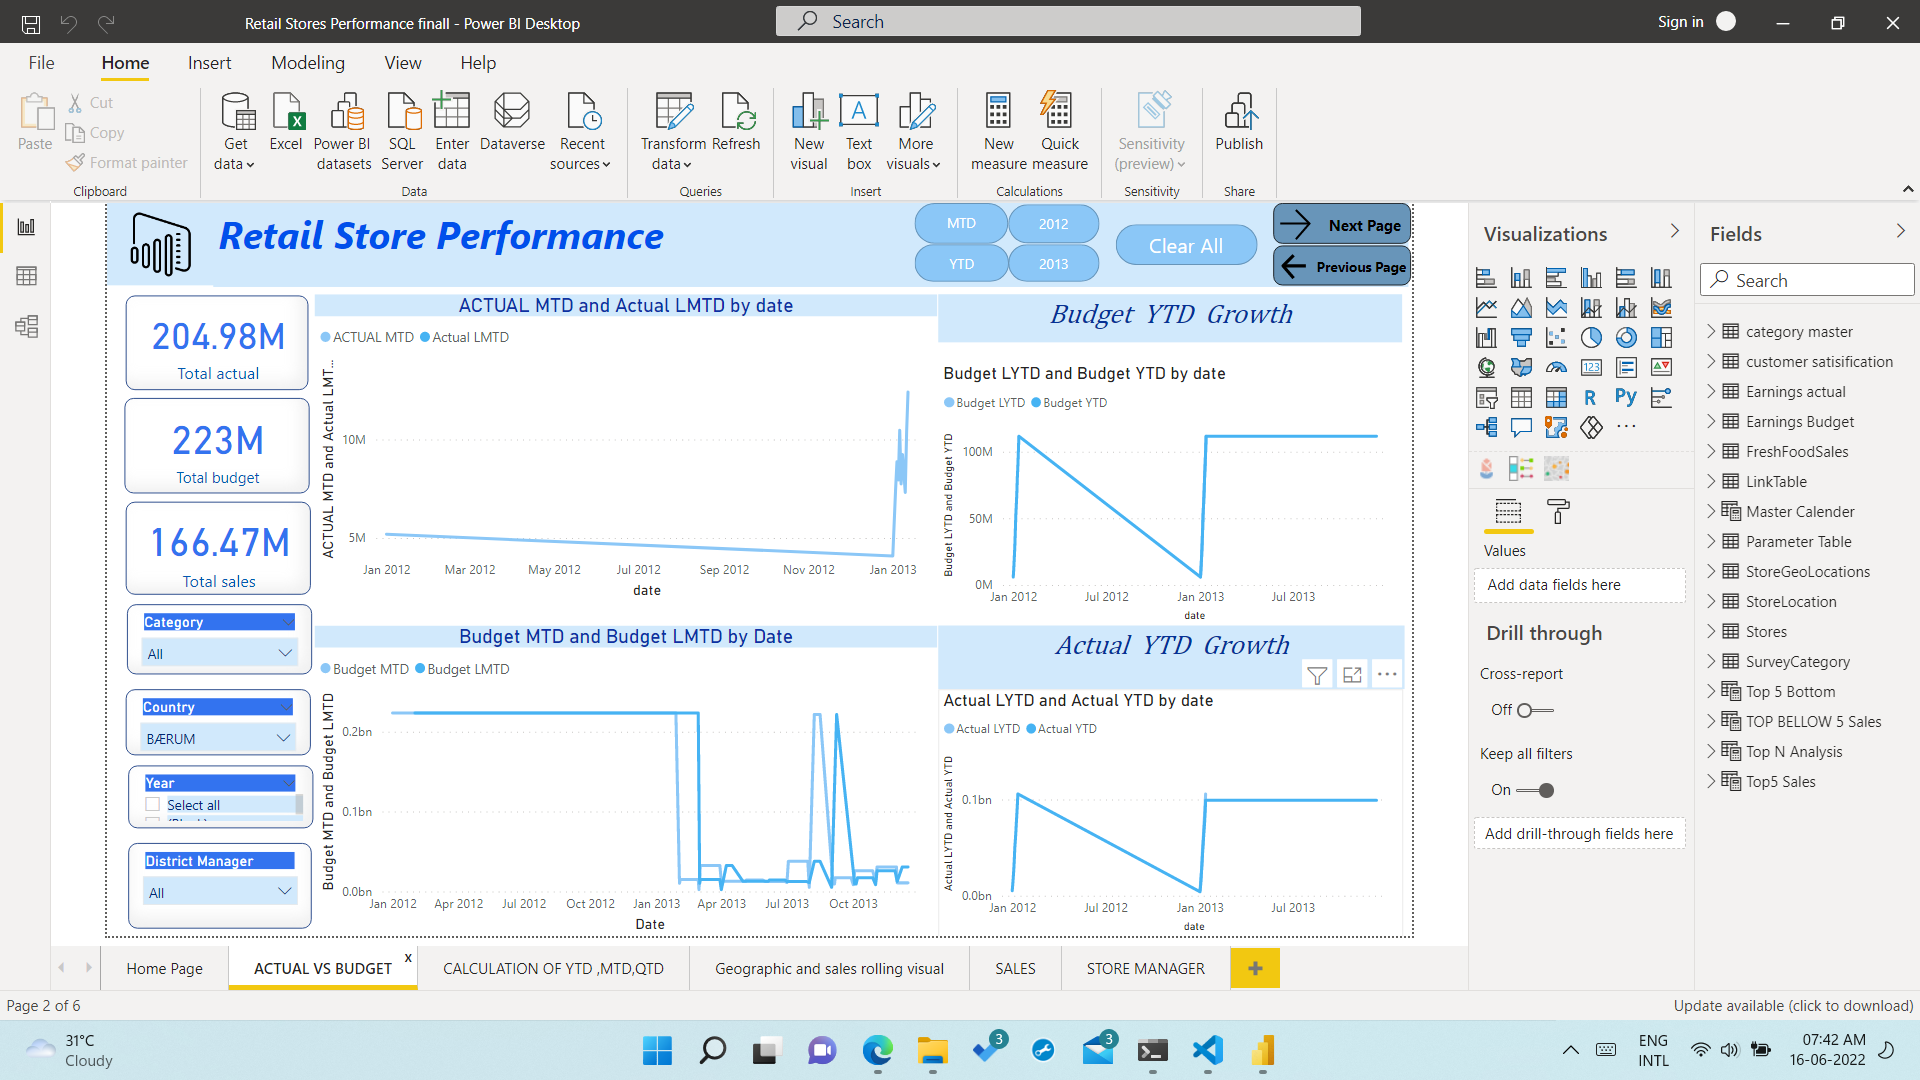

What the dashboard file says about the page in this screenshot:
{"tool":"powerbi","page":{"name":"ACTUAL VS BUDGET","canvas":[1280,720],"ordinal":1},"visuals":[{"type":"image","box":[0,0,105.7,80.8],"z":0},{"type":"textbox","box":[104.4,0,1173.1,82],"z":1000},{"type":"card","fields":{"Values":["Earnings actual.Total actual"]},"box":[17.8,90.3,179.4,92.7],"z":2000},{"type":"card","fields":{"Values":["Earnings Budget.Total budget"]},"box":[16.6,191.3,181.8,93.9],"z":3000},{"type":"card","fields":{"Values":["FreshFoodSales.total sales"]},"box":[19,293.5,181.8,91.5],"z":4000},{"type":"slicer","fields":{"Values":["category master.Category"]},"box":[20.2,393.3,181.8,68.9],"z":5000},{"type":"slicer","fields":{"Values":["StoreGeoLocations.Country"]},"box":[18,477.6,181.2,64.8],"z":6000},{"type":"slicer","fields":{"Values":["Stores.District Manager Name"]},"box":[20.4,627.6,180,84],"z":7000},{"type":"lineChart","fields":{"Y":["Earnings Budget.Budget LYTD","Earnings Budget.Budget YTD"],"Category":["Earnings Budget.date"]},"box":[815.2,156.6,457.3,258.5],"z":8000},{"type":"textbox","box":[815.2,415.1,457.3,62.1],"z":9000},{"type":"lineChart","fields":{"Y":["Earnings actual.Actual LYTD","Earnings actual.Actual YTD"],"Category":["Earnings actual.date"]},"box":[815.2,477.2,457.3,243.6],"z":10000},{"type":"textbox","box":[815.2,89.5,454.8,47.2],"z":11000},{"type":"shape","box":[989.7,21.4,139,40.4],"z":12000},{"type":"actionButton","title":"Next  Page","box":[1144.2,0,135.4,40.4],"z":13000},{"type":"slicer","fields":{"Values":["Master Calender.Date.Variation.Date Hierarchy.Year"]},"box":[20.4,552,181.2,61.2],"z":14000},{"type":"shape","box":[884.4,1.6,89.4,38.3],"z":15000},{"type":"actionButton","box":[1144.2,41.6,135.4,39.2],"z":16000},{"type":"shape","box":[884.4,39.9,89.4,36.7],"z":17000},{"type":"lineChart","fields":{"Y":["Earnings actual.ACTUAL MTD","Earnings actual.Actual LMTD"],"Category":["Earnings actual.date"]},"box":[203.8,89.5,611.4,303.2],"z":18000},{"type":"lineChart","fields":{"Category":["LinkTable.Date"],"Y":["Earnings Budget.Budget MTD","Earnings Budget.Budget LMTD"]},"box":[203.8,415.1,611.4,305.7],"z":19000},{"type":"shape","box":[792.9,0,92,39.8],"z":20000},{"type":"shape","box":[791.8,39.9,92.6,36.7],"z":21000}]}

Visuals, with their boxes on the page's 1280x720 design canvas (x1, y1, x2, y2). These are canvas units, not pixel positions in the 1920x1080 screenshot, which may show the page scaled, cropped or inside an application window:
image: {"x1": 0, "y1": 0, "x2": 106, "y2": 81}
textbox: {"x1": 104, "y1": 0, "x2": 1278, "y2": 82}
card - Earnings actual.Total actual: {"x1": 18, "y1": 90, "x2": 197, "y2": 183}
card - Earnings Budget.Total budget: {"x1": 17, "y1": 191, "x2": 198, "y2": 285}
card - FreshFoodSales.total sales: {"x1": 19, "y1": 294, "x2": 201, "y2": 385}
slicer - category master.Category: {"x1": 20, "y1": 393, "x2": 202, "y2": 462}
slicer - StoreGeoLocations.Country: {"x1": 18, "y1": 478, "x2": 199, "y2": 542}
slicer - Stores.District Manager Name: {"x1": 20, "y1": 628, "x2": 200, "y2": 712}
lineChart - Earnings Budget.Budget LYTD x Earnings Budget.Budget YTD: {"x1": 815, "y1": 157, "x2": 1272, "y2": 415}
textbox: {"x1": 815, "y1": 415, "x2": 1272, "y2": 477}
lineChart - Earnings actual.Actual LYTD x Earnings actual.Actual YTD: {"x1": 815, "y1": 477, "x2": 1272, "y2": 721}
textbox: {"x1": 815, "y1": 90, "x2": 1270, "y2": 137}
shape: {"x1": 990, "y1": 21, "x2": 1129, "y2": 62}
"Next  Page" actionButton: {"x1": 1144, "y1": 0, "x2": 1280, "y2": 40}
slicer - Master Calender.Date.Variation.Date Hierarchy.Year: {"x1": 20, "y1": 552, "x2": 202, "y2": 613}
shape: {"x1": 884, "y1": 2, "x2": 974, "y2": 40}
actionButton: {"x1": 1144, "y1": 42, "x2": 1280, "y2": 81}
shape: {"x1": 884, "y1": 40, "x2": 974, "y2": 77}
lineChart - Earnings actual.ACTUAL MTD x Earnings actual.Actual LMTD: {"x1": 204, "y1": 90, "x2": 815, "y2": 393}
lineChart - LinkTable.Date x Earnings Budget.Budget MTD: {"x1": 204, "y1": 415, "x2": 815, "y2": 721}
shape: {"x1": 793, "y1": 0, "x2": 885, "y2": 40}
shape: {"x1": 792, "y1": 40, "x2": 884, "y2": 77}
